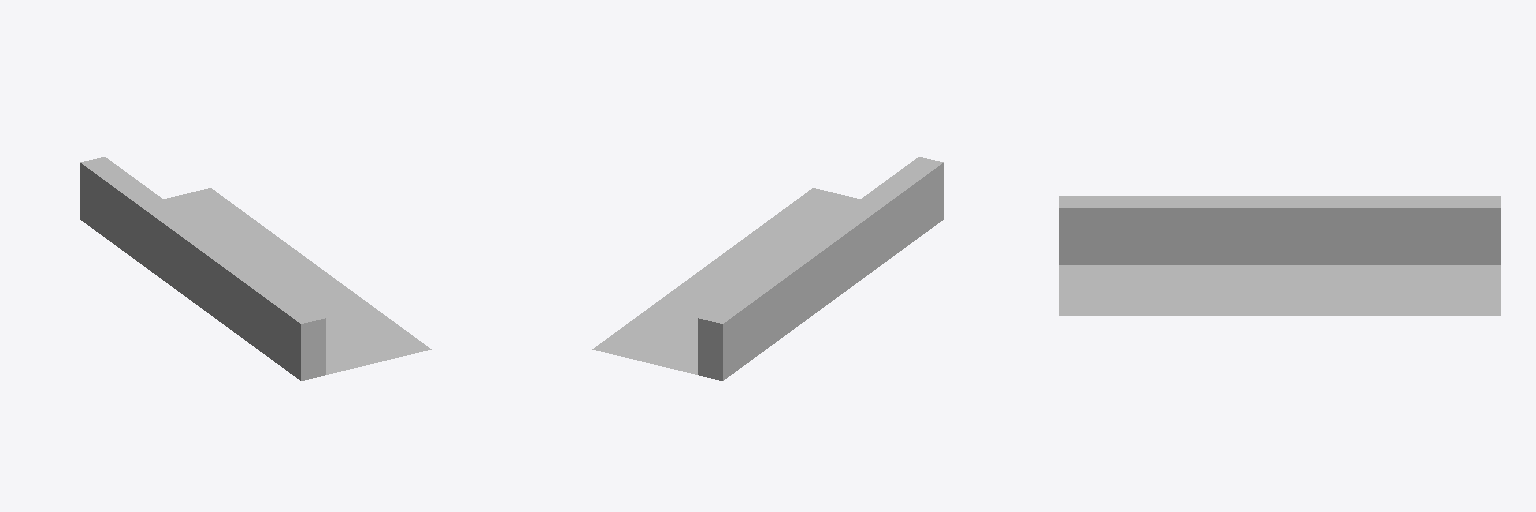
Rendered from post.obj.
3 renders of one model, left to right at view 1: azimuth 30°, elevation 25°; view 2: azimuth 150°, elevation 25°; view 3: azimuth 270°, elevation 25°, orthographic.
Parts seen in each view (by area): view 1: Plane; view 2: Plane; view 3: Plane.
Boxes of the visible parts, x1,y1,x2,y2 form: Plane: [80, 157, 431, 380]; Plane: [592, 157, 943, 380]; Plane: [1059, 196, 1500, 315].
Size of the model in its own units: 2.06 by 0.8612 by 6.04.